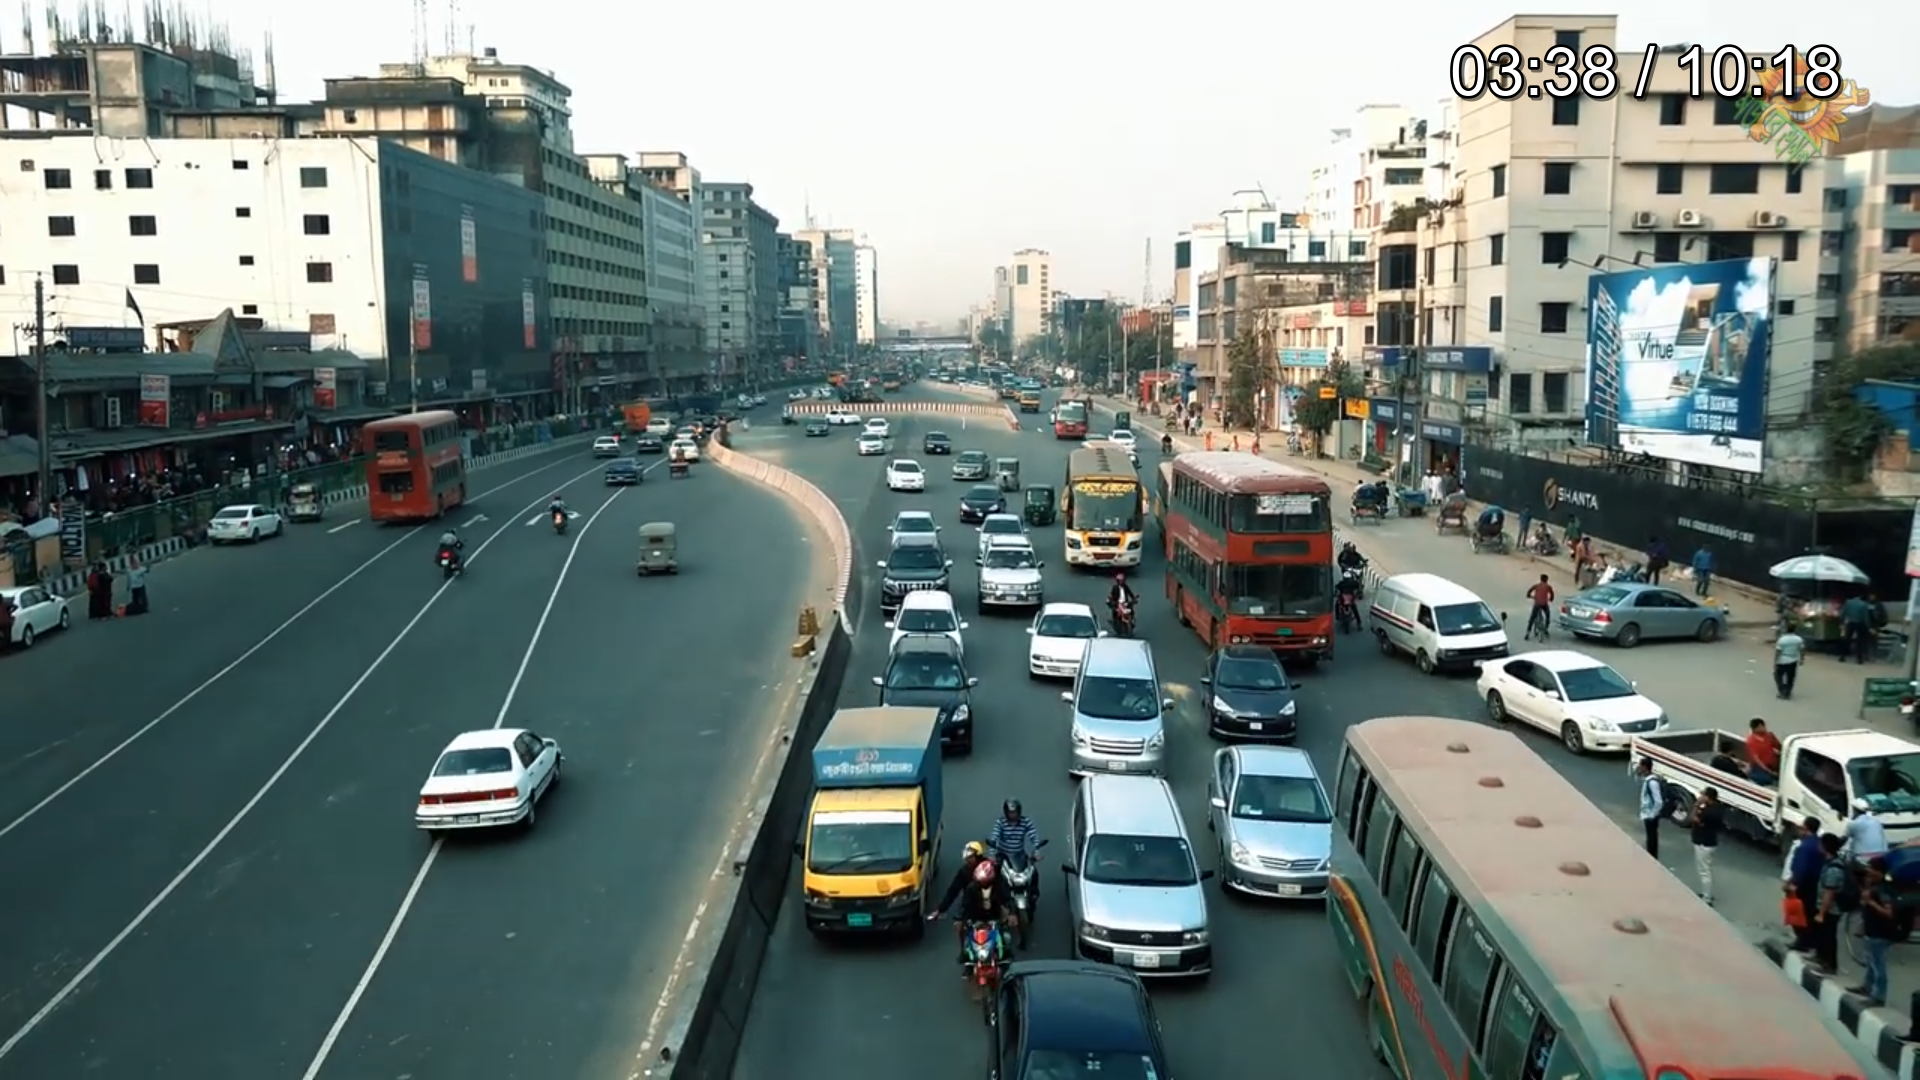MotorCycle: (1058, 440, 1151, 570), (952, 837, 1011, 992), (992, 794, 1054, 938), (436, 524, 469, 576), (547, 491, 568, 538)
